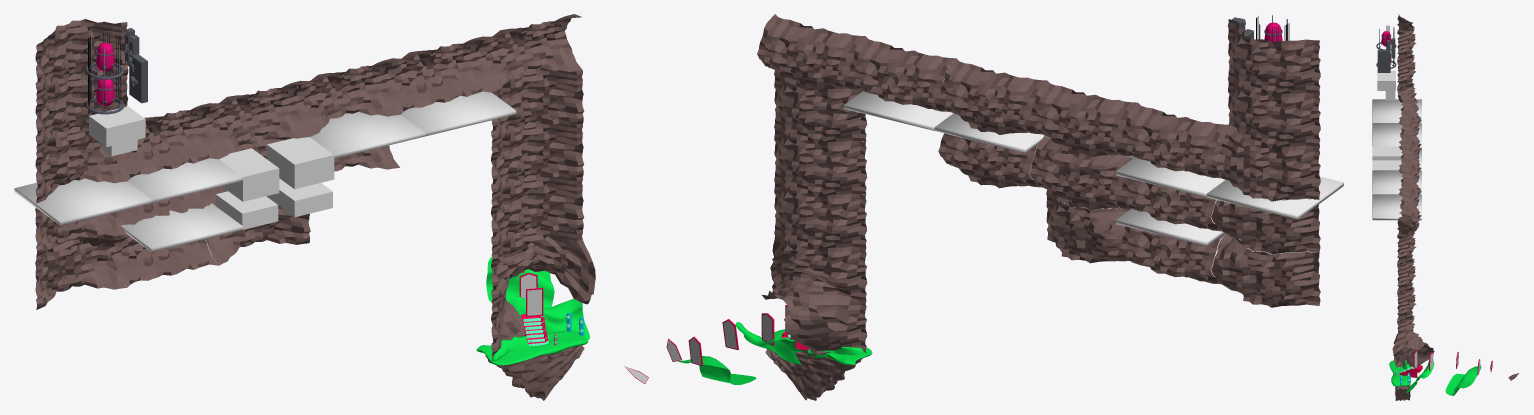
Rendered from Cave_proto1.fbx.
3 views of the same model, side by side, from view 1: azimuth 30°, elevation 25°; view 2: azimuth 150°, elevation 25°; view 3: azimuth 270°, elevation 25° (orthographic). The views are drawn at different scales.
Visible parts, largest first — view 1: Cave Walls, Temple Cave Wall.001, Cave Wall Side Side.003, Cave Wall Up Down.003, Cave Wall Up Down.002, Cave Walls.001, Cave Wall 3-Way Down Left Right.002, Cave Wall Up Down.001, Cave Wall 3-Way Right Up Down.002, Cube.184, Land Unit Temple, Cube.162 (+18 smaller); view 2: Cave Walls, Temple Cave Wall.001, Cave Wall 3-Way Right Up Down.002, Cave Walls.001, Cave Wall 3-Way Down Left Right.002, Cave Wall Side Side.003, Cave Wall Up Down.003, Cave Wall Up Down.002, Cave Walls.002, Cave Wall Up Down.001, Cave Wall 3-Way Right Up Down.001, Cave Walls.003 (+11 smaller); view 3: Cave Walls, Temple Cave Wall.001, Cube.170, Cube.162, Cube.001, Cube.184, Cave Wall Up Down.001, Cave Wall 3-Way Down Left Right.002, Land Unit Temple, landscape 2, Cave Wall Up Down.002, Cave Wall Up Down.003 (+7 smaller).
Boxes of the visible parts, x1,y1,x2,y2 form: Cave Walls: (35, 19, 309, 203); Temple Cave Wall.001: (491, 226, 595, 358); Cave Wall Side Side.003: (382, 36, 491, 114); Cave Wall Up Down.003: (491, 173, 584, 252); Cave Wall Up Down.002: (491, 120, 584, 198); Cave Walls.001: (291, 58, 400, 136); Cave Wall 3-Way Down Left Right.002: (473, 14, 582, 92); Cave Wall Up Down.001: (491, 67, 584, 145); Cave Wall 3-Way Right Up Down.002: (35, 231, 126, 309); Cube.184: (14, 178, 151, 225); Land Unit Temple: (476, 330, 588, 400); Cube.162: (310, 111, 425, 158); Cave Walls: (1029, 19, 1320, 201); Temple Cave Wall.001: (762, 226, 867, 355); Cave Wall 3-Way Right Up Down.002: (1211, 234, 1320, 307); Cave Walls.001: (938, 58, 1046, 134); Cave Wall 3-Way Down Left Right.002: (757, 14, 865, 90); Cave Wall Side Side.003: (848, 36, 955, 111); Cave Wall Up Down.003: (774, 173, 866, 249); Cave Wall Up Down.002: (774, 120, 866, 196); Cave Walls.002: (1029, 137, 1133, 210); Cave Wall Up Down.001: (774, 70, 867, 143); Cave Wall 3-Way Right Up Down.001: (1211, 196, 1320, 254); Cave Walls.003: (1046, 189, 1130, 263); Cave Walls: (1397, 14, 1421, 170); Temple Cave Wall.001: (1392, 303, 1434, 367); Cube.170: (1372, 194, 1421, 220); Cube.162: (1372, 170, 1421, 194); Cube.001: (1372, 123, 1421, 148); Cube.184: (1372, 99, 1421, 123); Cave Wall Up Down.001: (1397, 218, 1416, 269); Cave Wall 3-Way Down Left Right.002: (1399, 189, 1421, 241); Land Unit Temple: (1389, 360, 1410, 400); landscape 2: (1445, 366, 1481, 395); Cave Wall Up Down.002: (1397, 249, 1415, 298); Cave Wall Up Down.003: (1397, 277, 1416, 326).
Size of the model in its own units: 21309 by 16678 by 8678.
